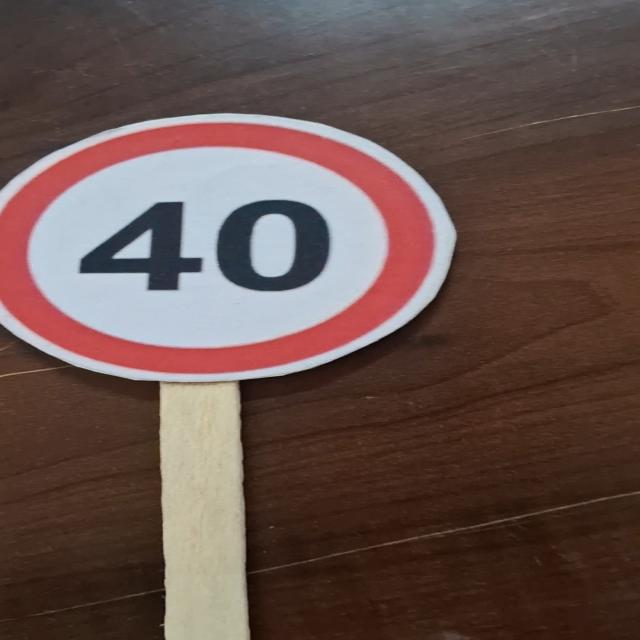Speed40: (0, 107, 459, 385)
